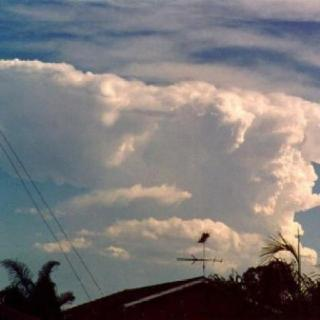Cumulonimbus: (0, 2, 320, 270)
